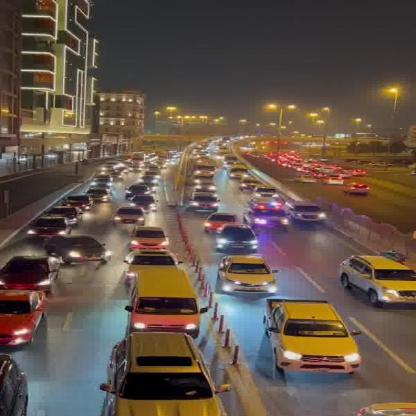priority: (248, 195, 292, 230)
